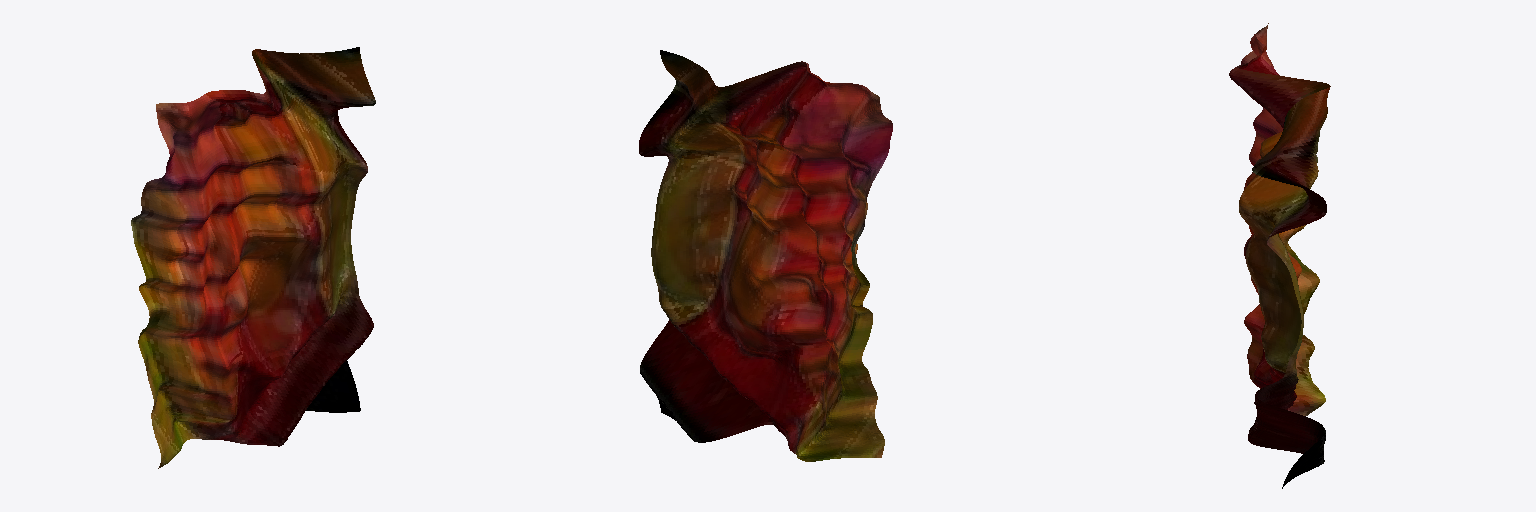
The picture shows the model from 3 angles: view 1: azimuth 30°, elevation 25°; view 2: azimuth 150°, elevation 25°; view 3: azimuth 270°, elevation 25°; orthographic projection.
Size of the model in its own units: 109 by 179 by 45.27.
Materials: 1 (1 with a texture image).